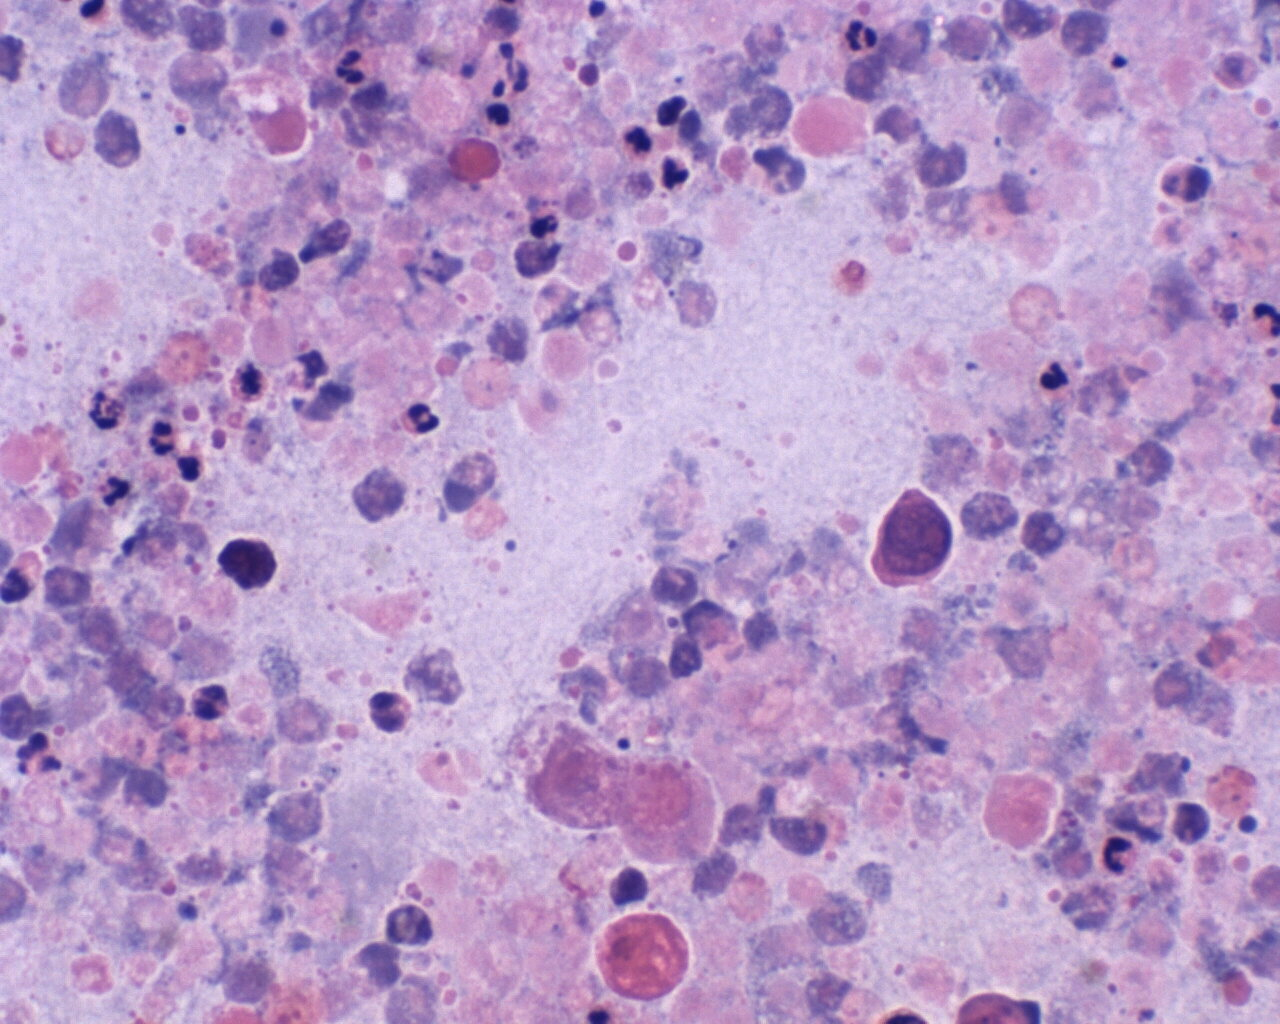ab: (854, 482, 956, 594)
neutro: (841, 10, 885, 60), (397, 395, 448, 437), (1096, 834, 1145, 877), (652, 152, 691, 194)
